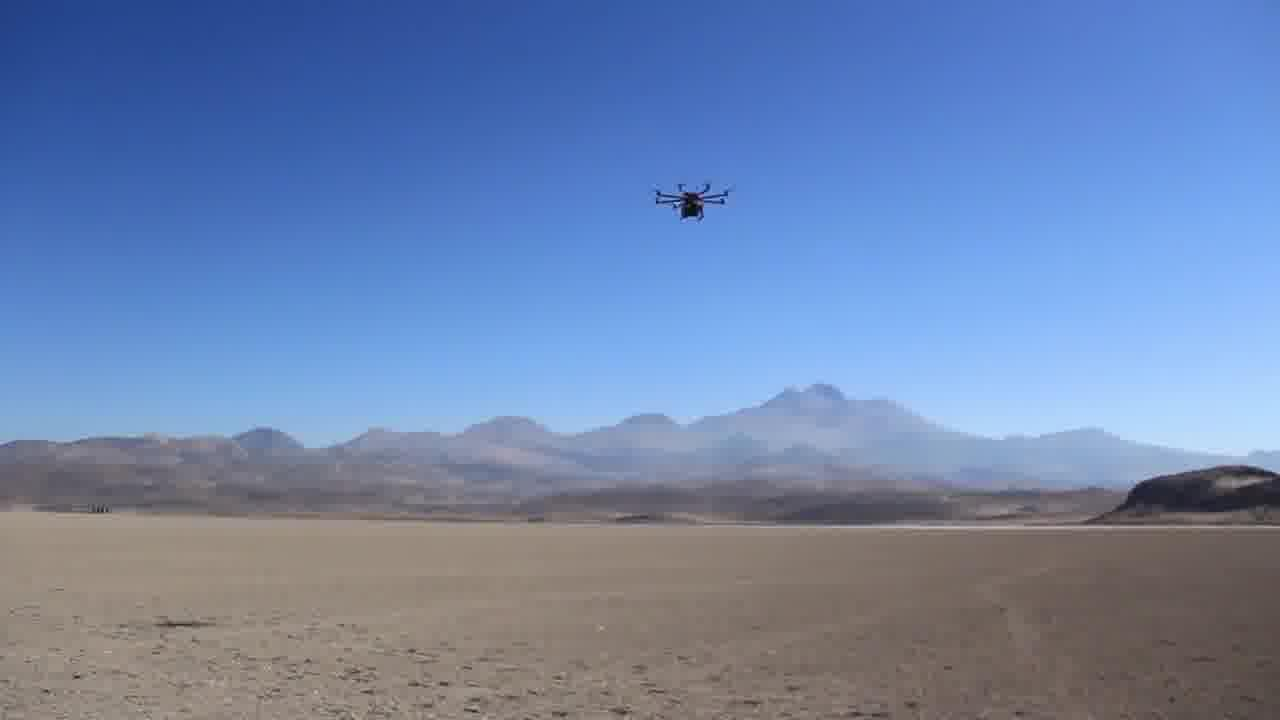drone: (648, 177, 731, 223)
